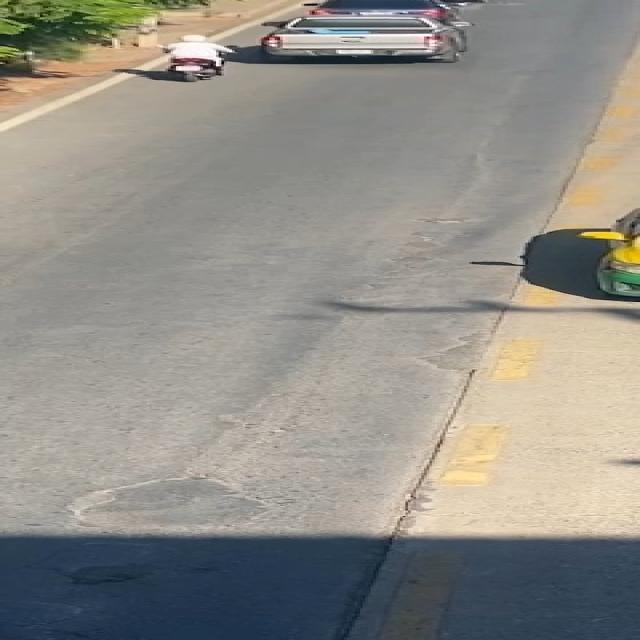car: (248, 13, 510, 78)
